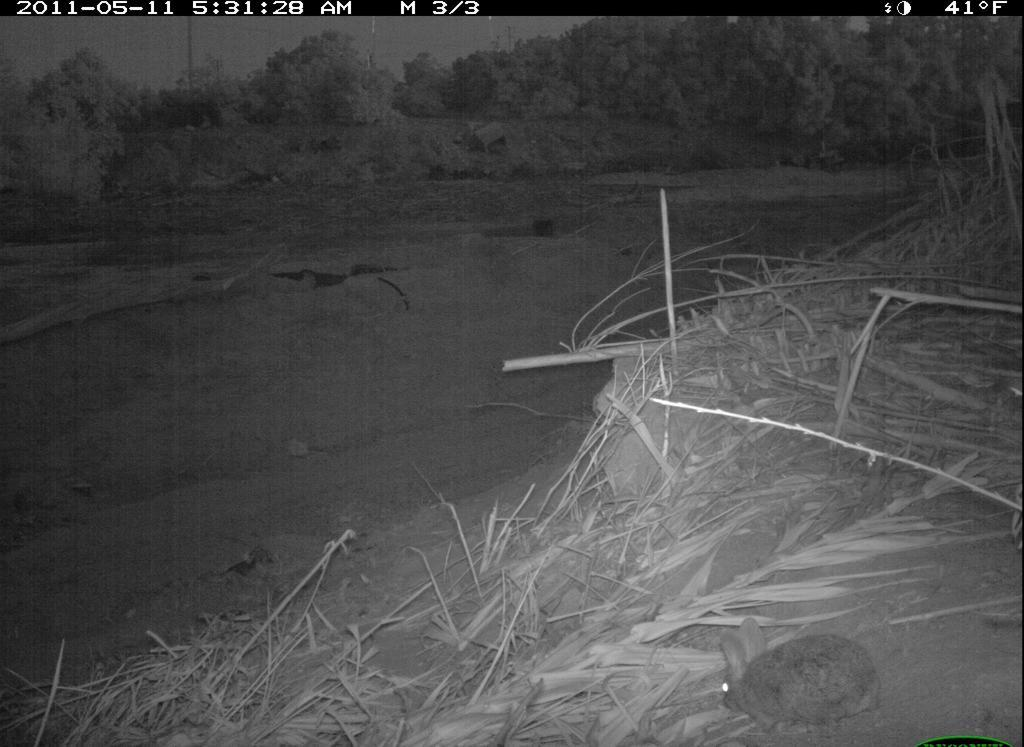rabbit: (713, 609, 888, 734)
